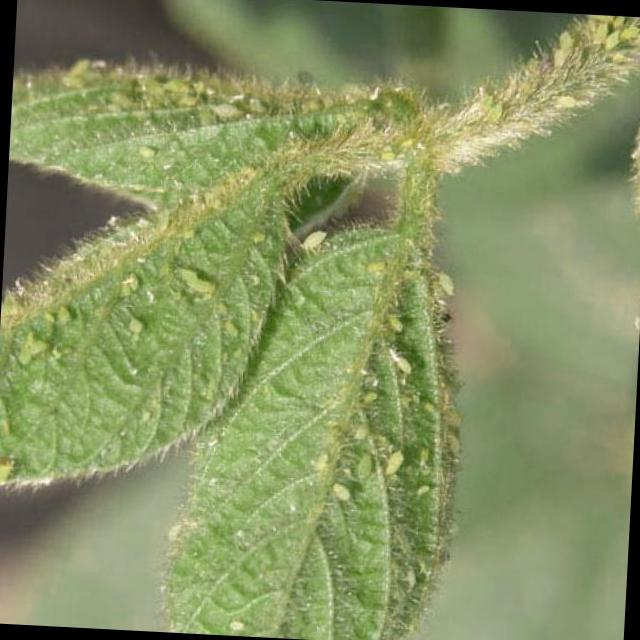aphid: (107, 73, 284, 127), (172, 260, 224, 302), (381, 344, 429, 388), (34, 296, 80, 330), (390, 390, 438, 420), (18, 324, 54, 364), (288, 222, 333, 252), (169, 224, 204, 255), (352, 384, 386, 410), (219, 316, 249, 344), (380, 447, 406, 479), (432, 268, 458, 300), (122, 315, 149, 344), (408, 477, 438, 502), (354, 448, 376, 481), (380, 310, 405, 335), (329, 482, 352, 509), (243, 230, 270, 252), (347, 421, 372, 444), (359, 261, 388, 280), (114, 274, 140, 295), (412, 441, 430, 470)
